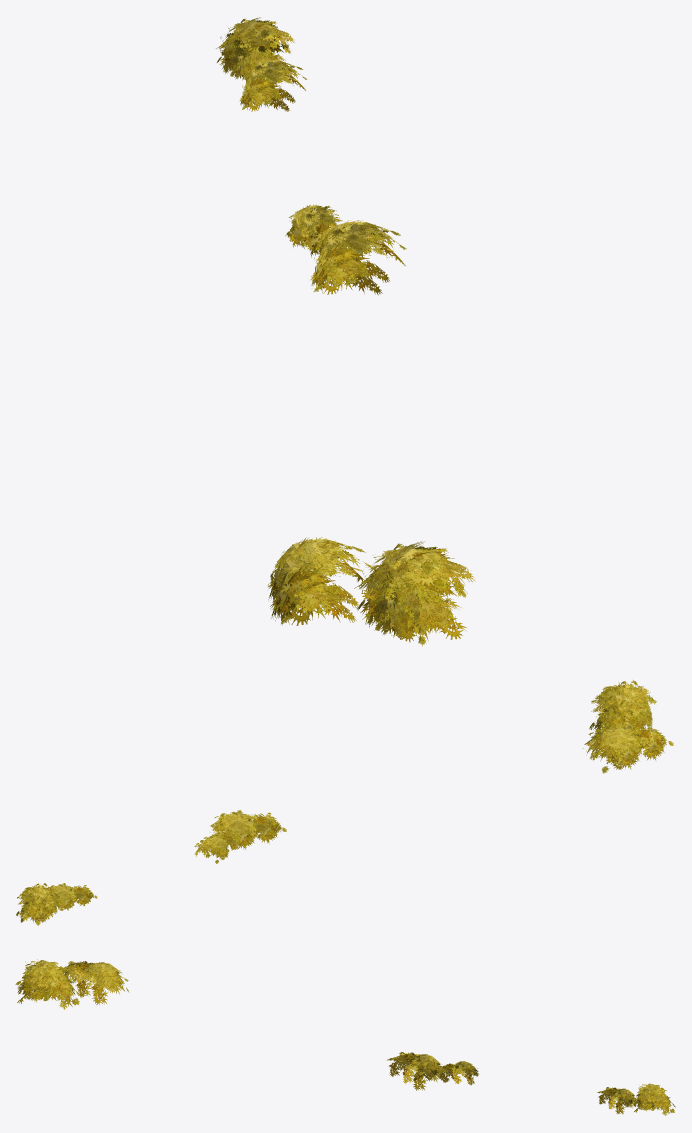
File: guanmu02.fbx
3 renders of one model, top to bottom at view 1: azimuth 30°, elevation 25°; view 2: azimuth 150°, elevation 25°; view 3: azimuth 270°, elevation 25°, orthographic. The views are drawn at different scales.
Visible parts, largest first — view 1: guanmu02; view 2: guanmu02; view 3: guanmu02.
Part boxes in pixels (x1=…): guanmu02: x1=216, y1=17, x2=475, y2=646; guanmu02: x1=16, y1=680, x2=673, y2=925; guanmu02: x1=15, y1=959, x2=675, y2=1115.
Size of the model in its own units: 2016 by 323 by 3850.
1 material, 1 textured.
